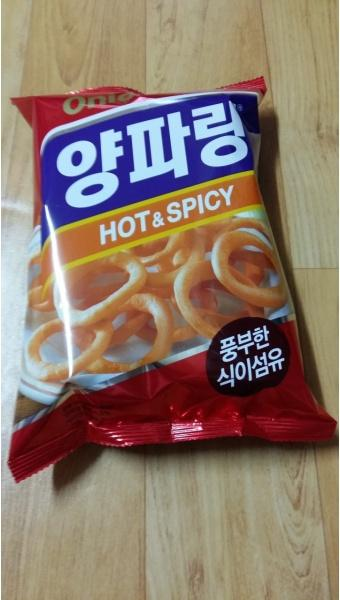snack: (10, 76, 338, 485)
